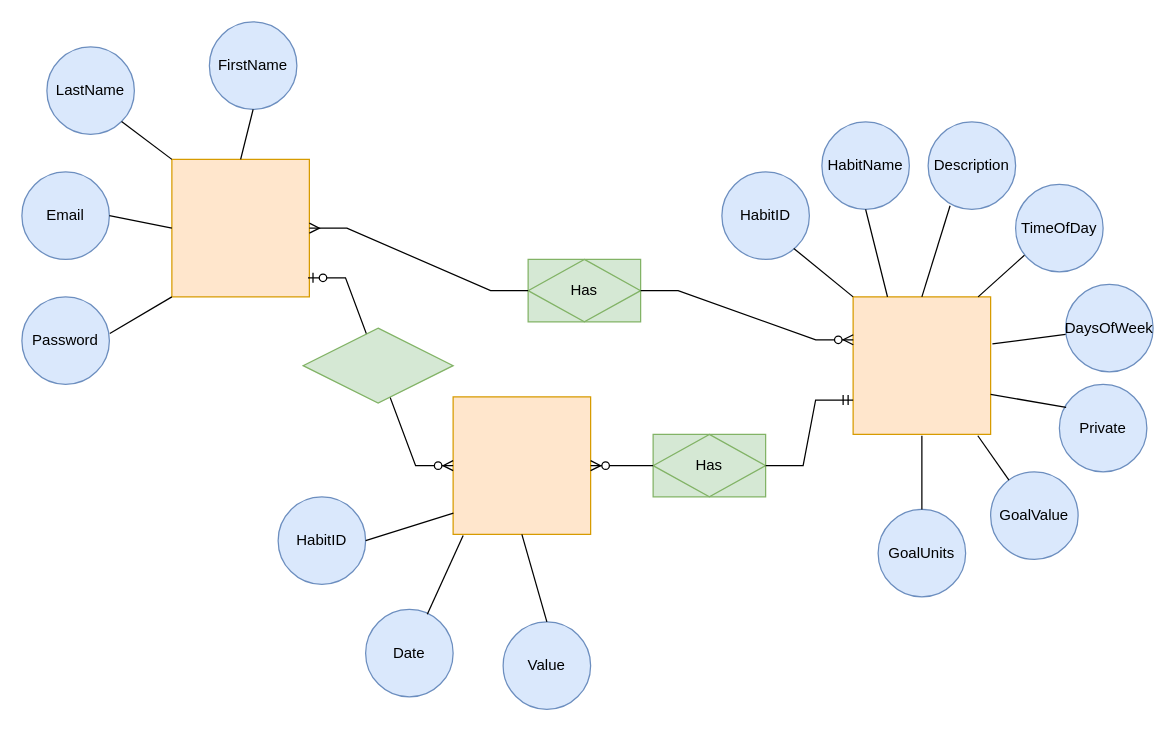
Image size: 1175x731. Some labels were removed from this diagram. The box of each missing label's shape, as (x1, y1, x2, y2) in pixels:
Creates: (302, 327, 453, 403)
Habit: (852, 296, 991, 434)
Habit_Log: (452, 396, 591, 534)
User: (171, 158, 309, 297)
